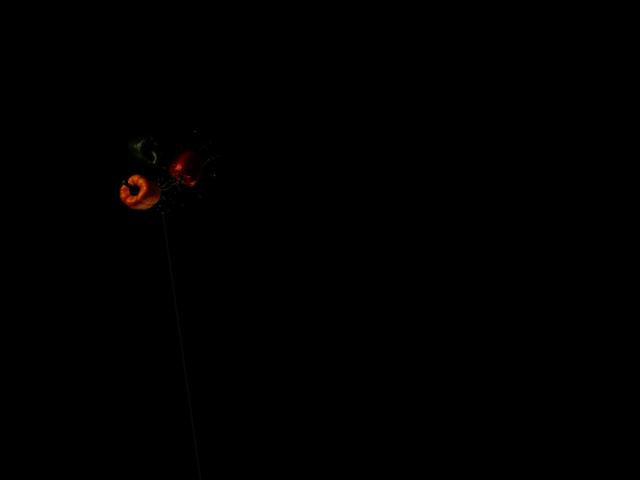bell_pepper: (158, 141, 207, 198)
